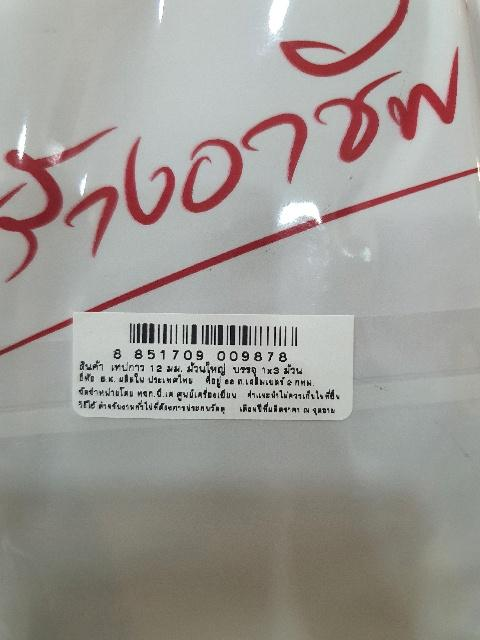Barcode: (112, 318, 307, 363)
